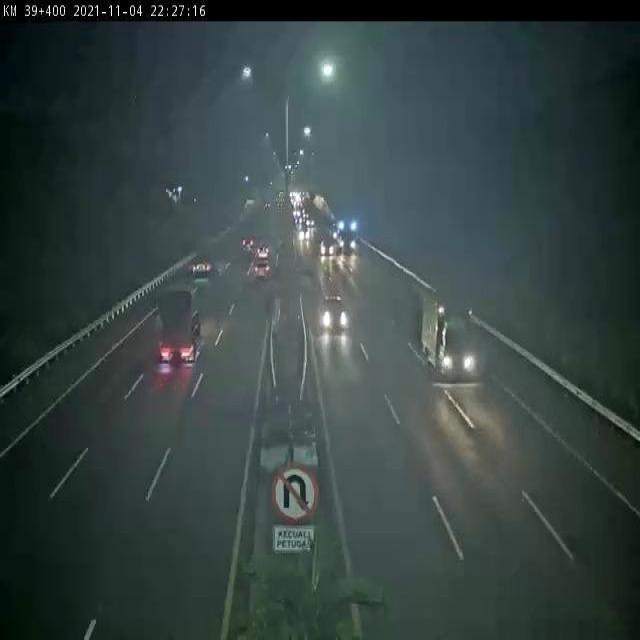car: (321, 295, 348, 333), (253, 263, 269, 281), (255, 242, 270, 258)
truck-m-: (420, 293, 477, 380), (155, 285, 198, 363), (188, 240, 216, 273)
